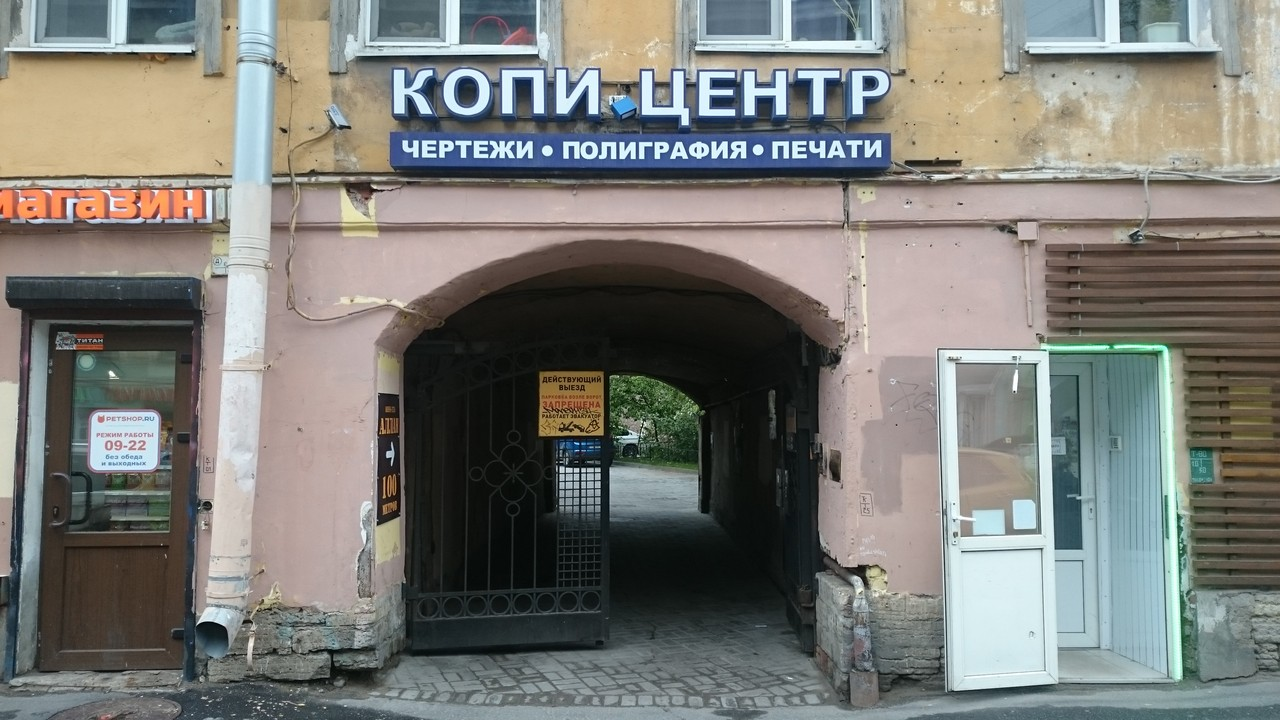arch: (375, 238, 849, 693)
door: (938, 346, 1178, 692), (40, 322, 186, 676)
signboard: (387, 62, 894, 169), (1, 184, 217, 220)
